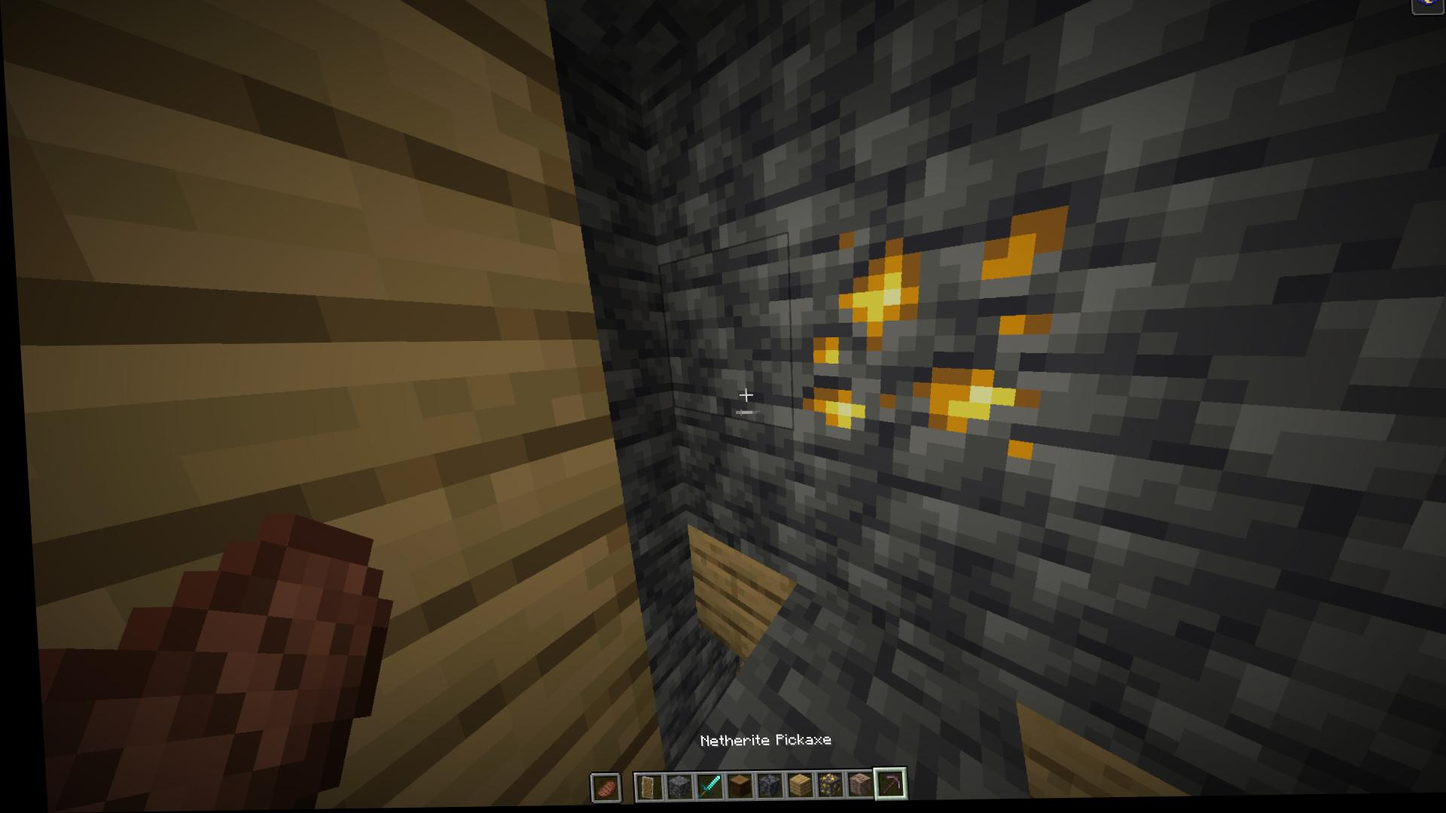gold ore: (784, 208, 1077, 468)
